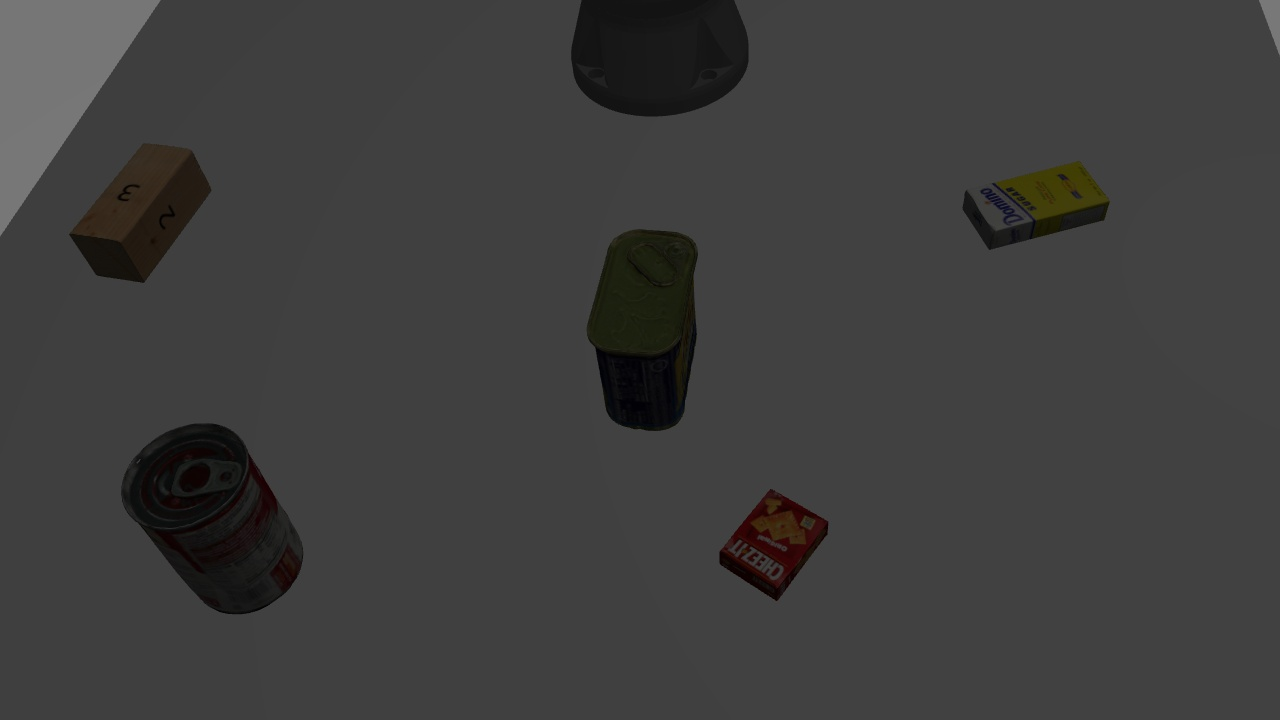cracker_box: (717, 486, 839, 593)
jenga: (958, 156, 1114, 251)
potted_meat_can: (595, 224, 703, 439)
sugar_box: (954, 158, 1121, 255)
tomato_soup_can: (116, 421, 308, 621)
wood_block: (67, 136, 214, 282)
